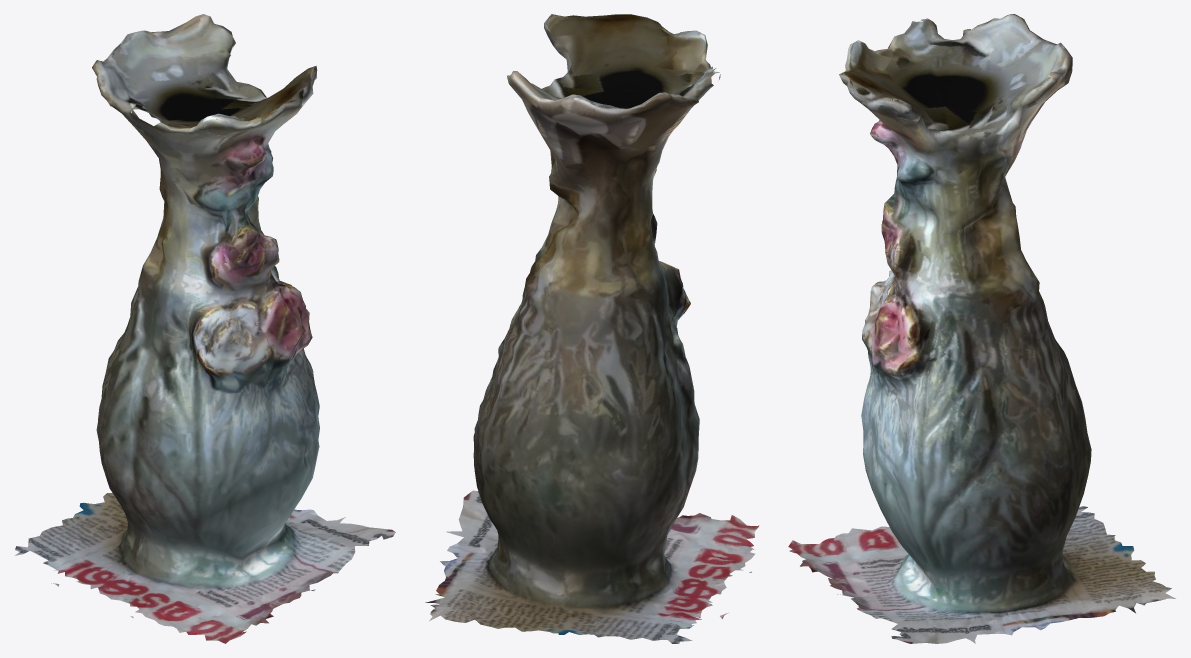
The model's file is vase.glb.
3 renders of one model, left to right at view 1: azimuth 30°, elevation 25°; view 2: azimuth 150°, elevation 25°; view 3: azimuth 270°, elevation 25°, orthographic. The views are drawn at different scales.
Parts seen in each view (by area): view 1: Mesh_0; view 2: Mesh_0; view 3: Mesh_0.
Part boxes in pixels (left/top/right/bottom): Mesh_0: left=14, top=14, right=395, bottom=643; Mesh_0: left=425, top=14, right=759, bottom=643; Mesh_0: left=788, top=14, right=1175, bottom=643.
Size of the model in its own units: 0.452 by 0.7369 by 0.4899.
1 material, 1 textured.
